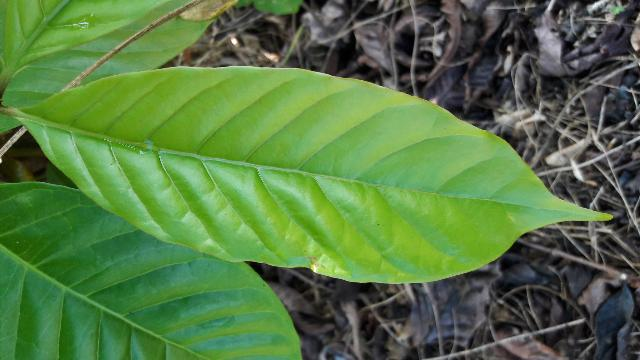healthy: (15, 67, 601, 284)
